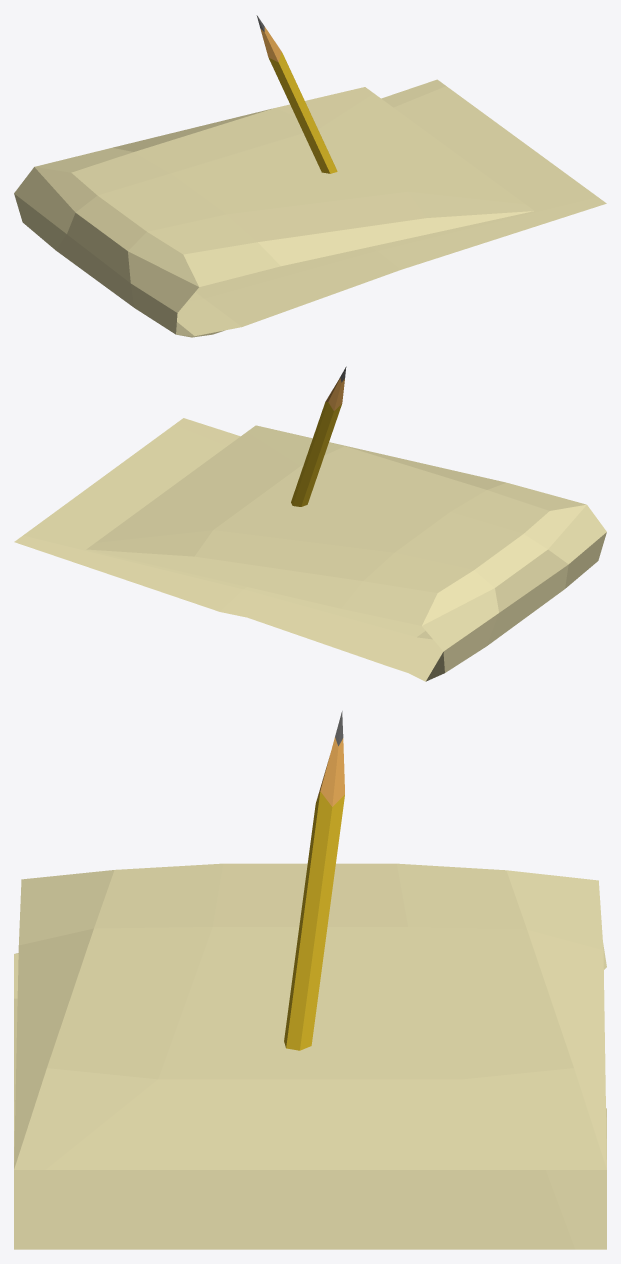
The model's file is papier_trou_de_ver.fbx.
3 views of the same model, one above another, from view 1: azimuth 30°, elevation 25°; view 2: azimuth 150°, elevation 25°; view 3: azimuth 270°, elevation 25° (orthographic). The views are drawn at different scales.
Visible parts, largest first — view 1: Cylinder; view 2: Cylinder; view 3: Cylinder.
Boxes of the visible parts, x1,y1,x2,y2 form: Cylinder: (14, 15, 606, 337); Cylinder: (14, 366, 606, 681); Cylinder: (14, 711, 606, 1249).
Bounding box in the file's own units: 200 × 103 × 137.
